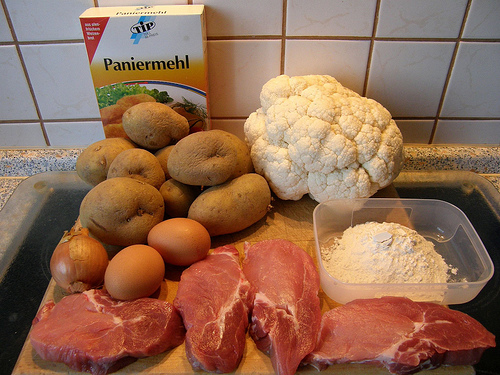cauliflower: (243, 73, 404, 211)
